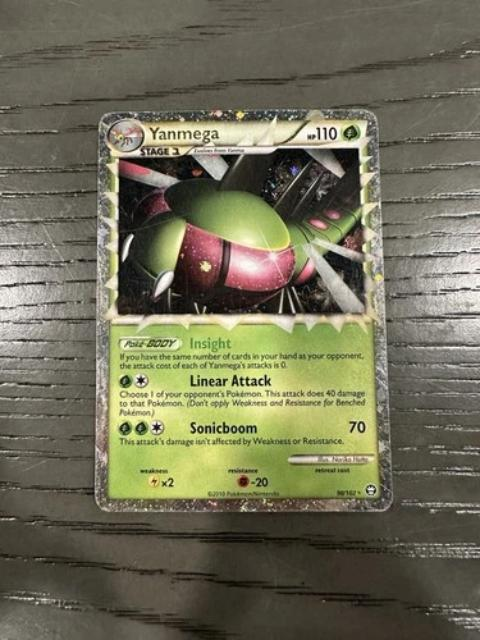Card: (90, 97, 399, 518)
Name: (143, 119, 221, 143)
